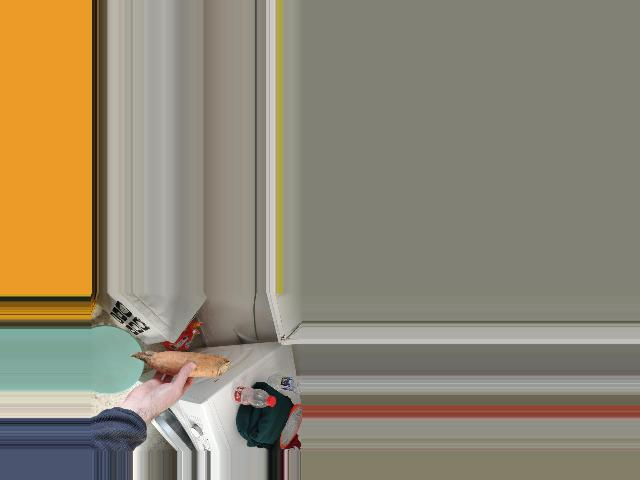sweet_potato: (137, 352, 220, 381)
